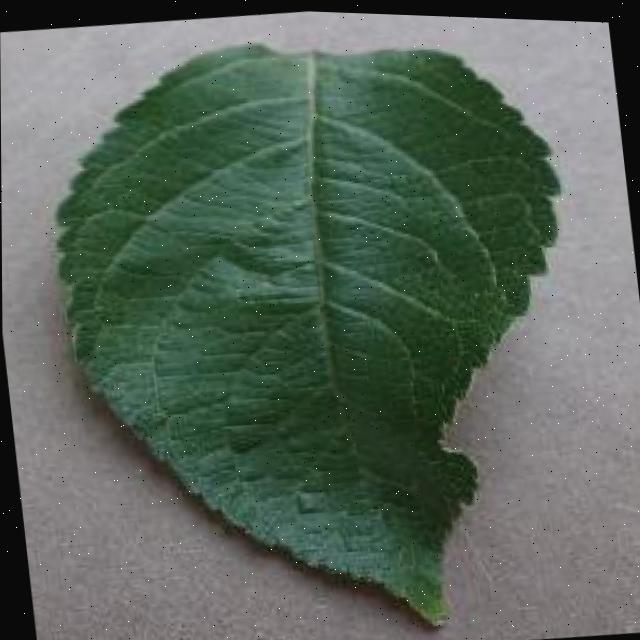healthy: (26, 1, 622, 640)
